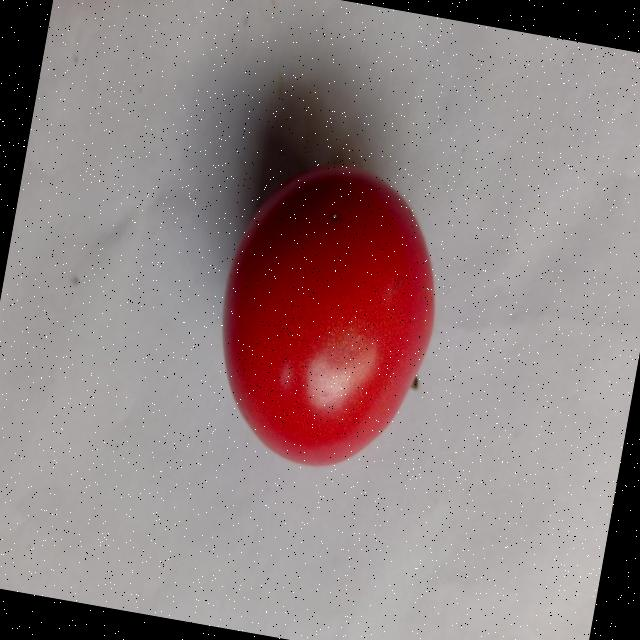Ripe: (192, 145, 460, 490)
